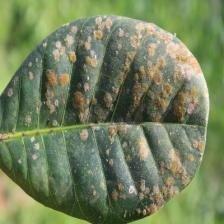red rust: (0, 13, 209, 223)
